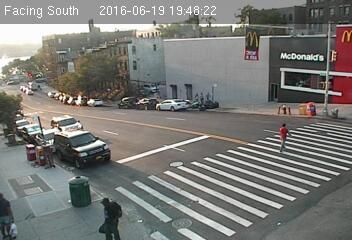neg: (155, 88, 171, 110), (126, 78, 139, 95), (129, 57, 141, 73), (137, 79, 147, 92), (152, 26, 162, 39), (147, 81, 156, 93), (133, 28, 142, 40), (151, 43, 159, 53), (144, 27, 152, 37)
pos: (91, 194, 123, 237), (270, 120, 296, 154), (197, 91, 208, 105), (204, 89, 215, 103), (191, 91, 200, 104)
